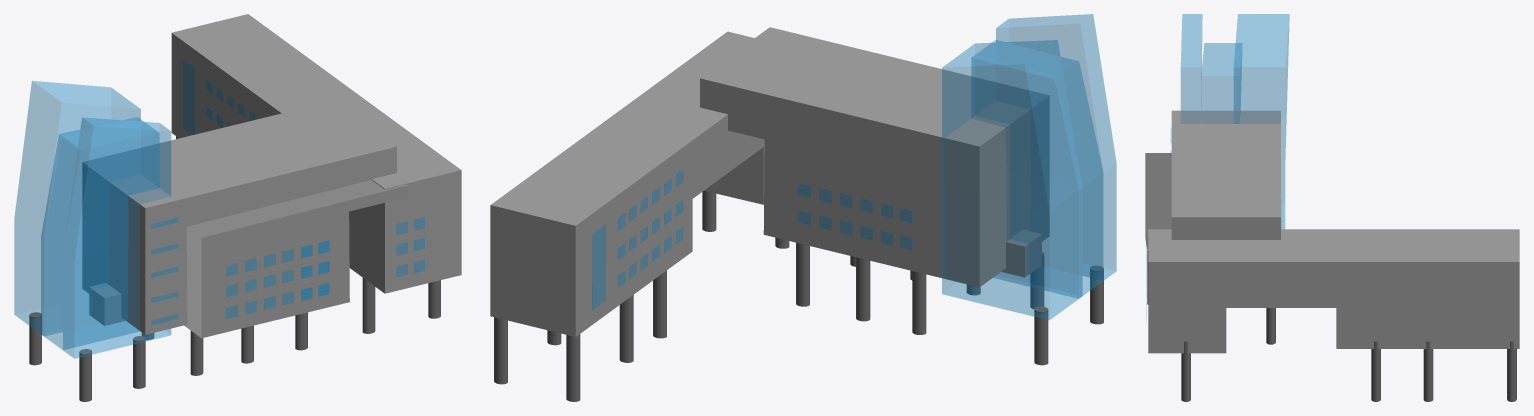
The model's file is vision_tower3.gltf.
3 renders of one model, left to right at view 1: azimuth 30°, elevation 25°; view 2: azimuth 150°, elevation 25°; view 3: azimuth 270°, elevation 25°, orthographic. The views are drawn at different scales.
Visible parts, largest first — view 1: Cube.001, Cube.029, Cube.005, Cube, Cube.002, Cube.003, Cube.049, Cylinder.006, Cylinder, Cylinder.001, Cylinder.002, Cylinder.003 (+3 smaller); view 2: Cube.001, Cube.029, Cube.002, Cube.003, Cube, Cube.049, Cylinder.016, Cylinder.015, Cylinder.018, Cylinder.017, Cylinder.012, Cylinder.014 (+5 smaller); view 3: Cube.029, Cube.001, Cube.002, Cube.003, Cube, Cube.005, Cylinder.011, Cylinder.010, Cylinder.012, Cylinder.007, Cylinder.019.
Boxes of the visible parts, box(x1,y1,x2,y2) form: Cube.001: box(82, 101, 396, 334); Cube.029: box(89, 14, 461, 325); Cube.005: box(184, 180, 407, 338); Cube: box(63, 117, 170, 358); Cube.002: box(14, 81, 140, 336); Cube.003: box(41, 117, 159, 349); Cube.049: box(183, 60, 194, 134); Cylinder.006: box(362, 276, 375, 333); Cylinder: box(29, 312, 41, 365); Cylinder.001: box(79, 349, 91, 401); Cylinder.002: box(133, 336, 145, 388); Cylinder.003: box(190, 331, 203, 375); Cube.001: box(700, 27, 1049, 287); Cube.029: box(490, 31, 1041, 336); Cube.002: box(942, 40, 1082, 319); Cube.003: box(971, 40, 1102, 298); Cube: box(996, 14, 1116, 280); Cube.049: box(592, 224, 605, 310); Cylinder.016: box(566, 334, 580, 401); Cylinder.015: box(619, 295, 633, 362); Cylinder.018: box(856, 257, 870, 321); Cylinder.017: box(912, 271, 926, 334); Cylinder.012: box(494, 317, 507, 384); Cylinder.014: box(653, 270, 666, 338); Cube.029: box(1148, 229, 1519, 353); Cube.001: box(1171, 110, 1280, 239); Cube.002: box(1234, 14, 1289, 228); Cube.003: box(1201, 43, 1242, 123); Cube: box(1181, 14, 1202, 123); Cube.005: box(1145, 153, 1171, 304); Cylinder.011: box(1423, 341, 1433, 401); Cylinder.010: box(1371, 341, 1380, 401); Cylinder.012: box(1507, 341, 1516, 401); Cylinder.007: box(1181, 341, 1190, 401); Cylinder.019: box(1266, 308, 1275, 344).
Size of the model in its own units: 27.69 by 19.78 by 27.96.
